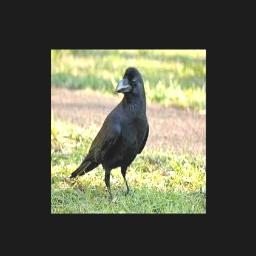Crow: (70, 66, 149, 201)
